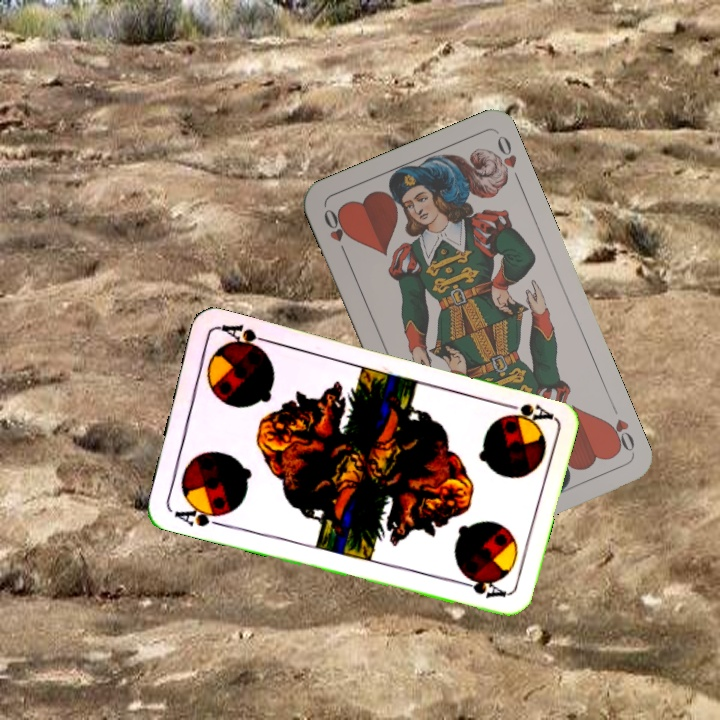HO: (601, 399, 637, 456), (319, 204, 352, 260)
SA: (170, 499, 228, 529), (496, 398, 555, 427)
